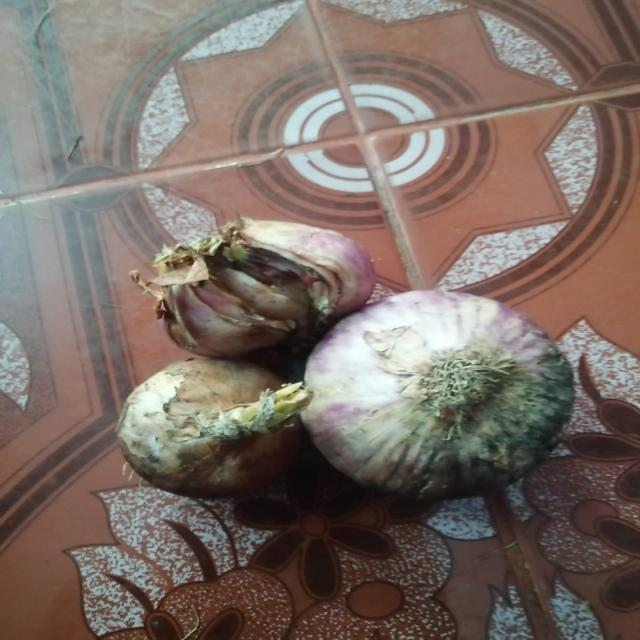rotten: (191, 249, 313, 322), (474, 364, 563, 464)
sprouting: (235, 388, 309, 428)
